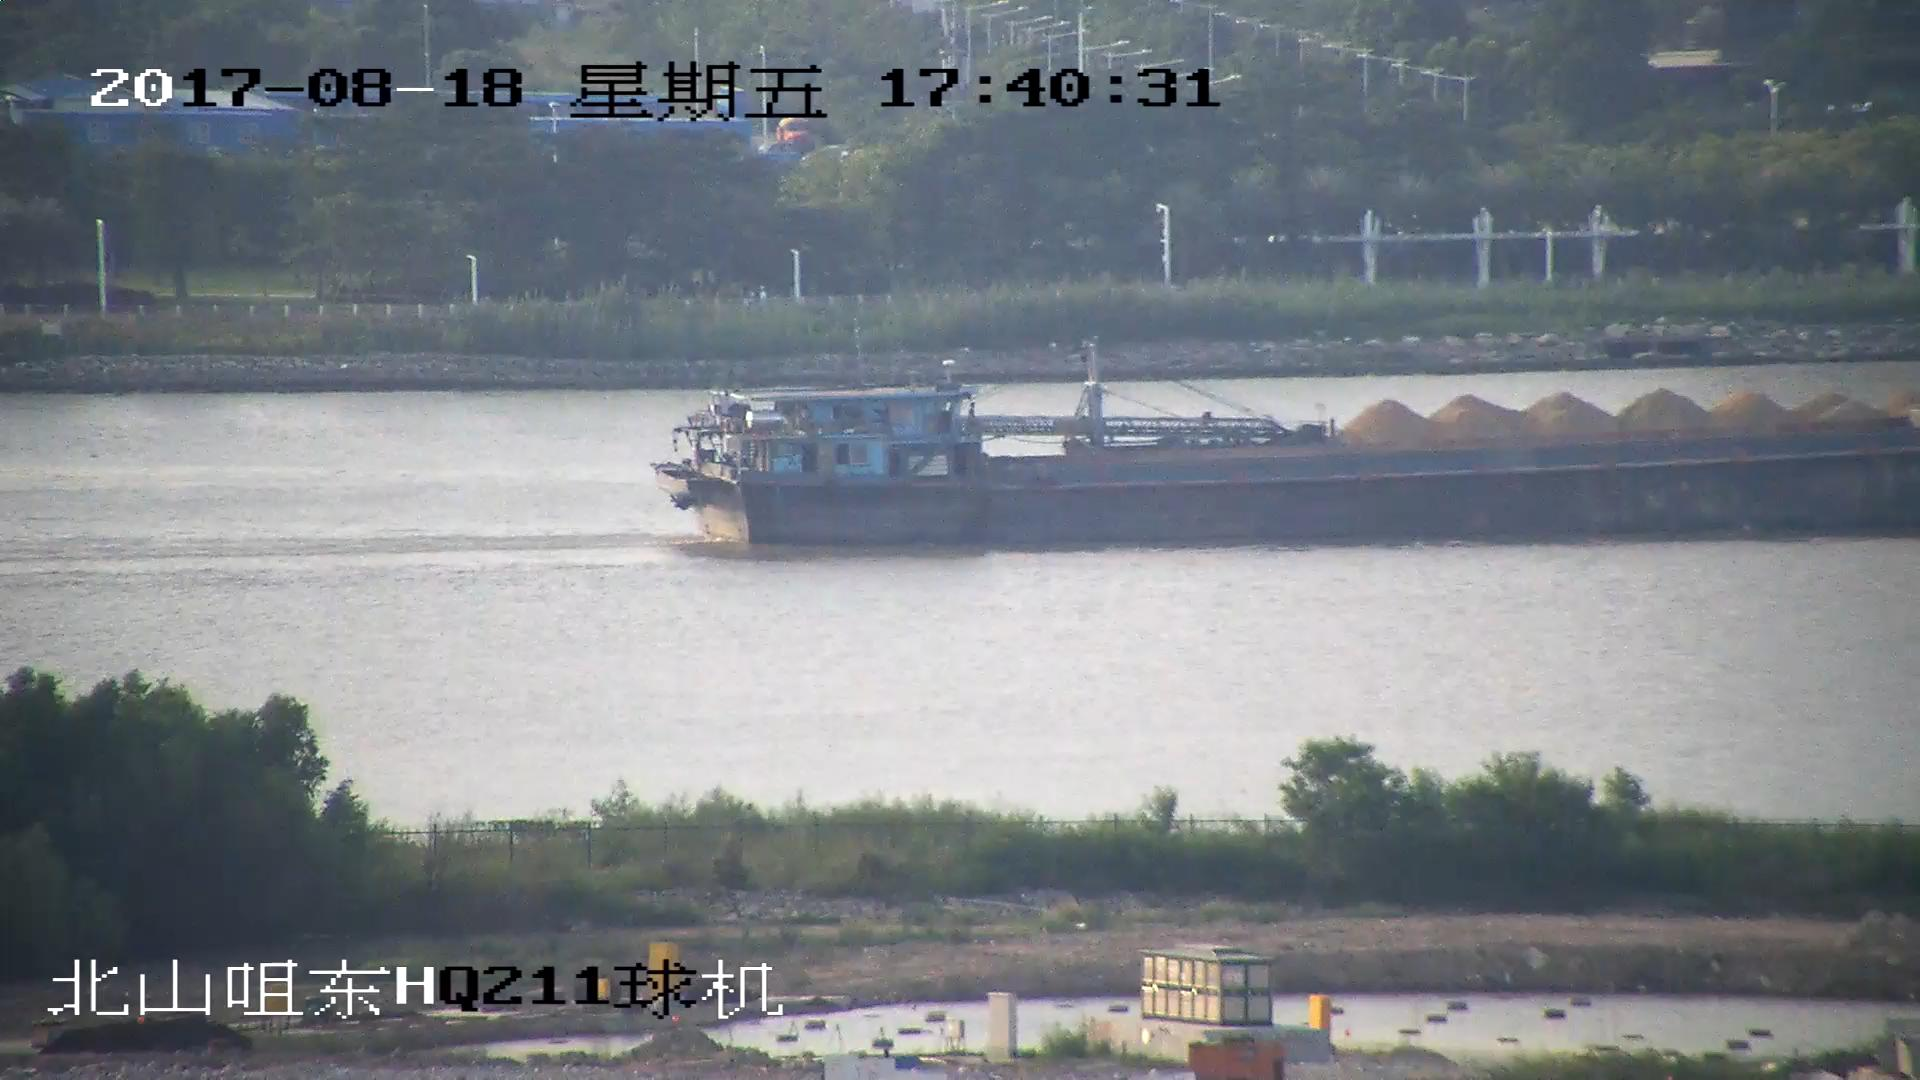bulk cargo carrier: (661, 387, 1919, 550)
ore carrier: (985, 345, 1920, 455)
